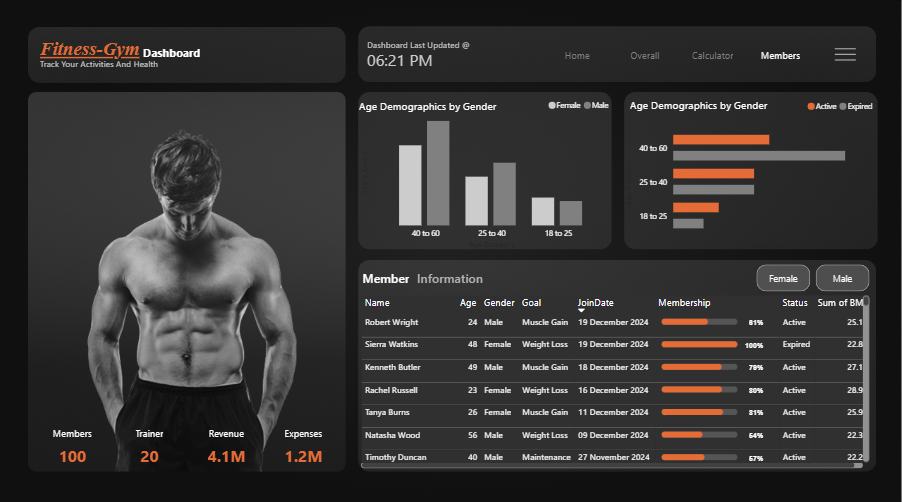

The page's visual inventory and layout, read from the dashboard file:
{"tool":"powerbi","page":{"name":"Members","canvas":[1280,720],"ordinal":3},"visuals":[{"type":"tableEx","fields":{"Values":["Users.UserName","Users.Age","Users.Gender","Users.Goal","Users.JoinDate","_Measures.SVG_BarChart1","Users.Status","Sum(Users.BMI)"]},"box":[508.8,416.7,731.3,255.1],"z":0},{"type":"shape","box":[56.3,52.1,149,40.6],"z":1000},{"type":"shape","box":[202.1,57.3,117.7,40.6],"z":2000},{"type":"shape","box":[56.3,71.9,264.6,40.6],"z":3000},{"type":"image","box":[1163.6,56.7,76.5,48.2],"z":4000},{"type":"shape","box":[520,68.1,117.1,40],"z":5000},{"type":"shape","box":[520,45.3,265.7,41.4],"z":6000},{"type":"pageNavigator","box":[778.1,62.4,374.2,36.9],"z":7000},{"type":"shape","box":[508.8,377,82.2,39.7],"z":8000},{"type":"shape","box":[591,377,100.6,39.7],"z":9000},{"type":"advancedSlicerVisual","fields":{"Values":["Users.Gender"]},"box":[1070.1,372.8,170.1,48.2],"z":10000},{"type":"clusteredColumnChart","fields":{"Y":["_Measures.Users_Count"],"Category":["Users.Age Category"],"Series":["Users.Gender"]},"box":[508.8,133.2,365.7,226.8],"z":11000},{"type":"shape","box":[508.8,133.2,201.3,39.7],"z":12000},{"type":"clusteredBarChart","fields":{"Category":["Users.Age Category"],"Y":["_Measures.Users_Count"],"Series":["Users.Status"]},"box":[883,134.6,365.7,226.8],"z":13000},{"type":"shape","box":[892.9,131.8,201.3,39.7],"z":14000},{"type":"cardVisual","fields":{"Data":["_Measures.Users_Count"]},"box":[50.4,591.3,109.2,80.6],"z":18000},{"type":"cardVisual","fields":{"Data":["Count(Users.Trainer Name)"]},"box":[159.6,591.3,109.2,80.6],"z":19000},{"type":"cardVisual","fields":{"Data":["_Measures.Revenue"]},"box":[268.8,591.3,109.2,80.6],"z":20000},{"type":"cardVisual","fields":{"Data":["_Measures.Expenses"]},"box":[378,591.3,109.2,80.6],"z":21000}]}

Visuals, with their boxes in screenshot pixels (x1, y1, x2, y2), scaled from the page's 1280x720 canvas onto the 902x502 screenshot:
tableEx - Users.UserName x Users.Age: [359,291,874,468]
shape: [40,36,145,65]
shape: [142,40,225,68]
shape: [40,50,226,78]
image: [820,40,874,73]
shape: [366,47,449,75]
shape: [366,32,554,60]
pageNavigator: [548,44,812,69]
shape: [359,263,416,291]
shape: [416,263,487,291]
advancedSlicerVisual - Users.Gender: [754,260,874,294]
clusteredColumnChart - _Measures.Users_Count x Users.Age Category: [359,93,616,251]
shape: [359,93,500,121]
clusteredBarChart - Users.Age Category x _Measures.Users_Count: [622,94,880,252]
shape: [629,92,771,120]
cardVisual - _Measures.Users_Count: [36,412,112,468]
cardVisual - Count(Users.Trainer Name): [112,412,189,468]
cardVisual - _Measures.Revenue: [189,412,266,468]
cardVisual - _Measures.Expenses: [266,412,343,468]
